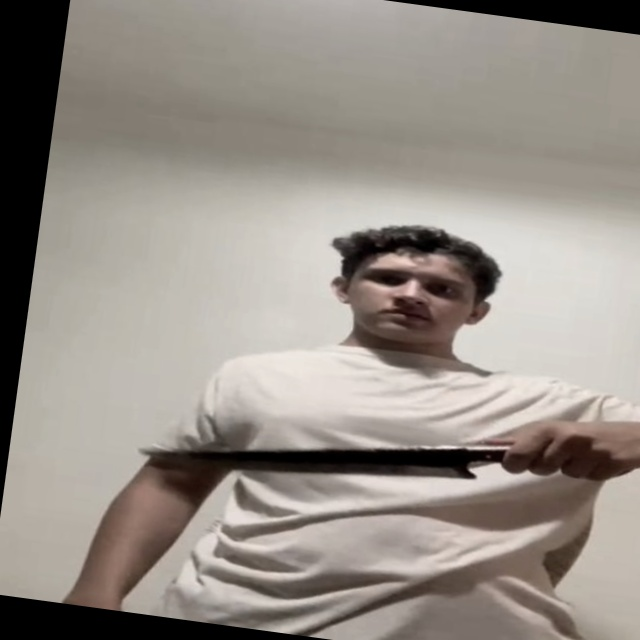Sharp-Object: (127, 400, 488, 499)
